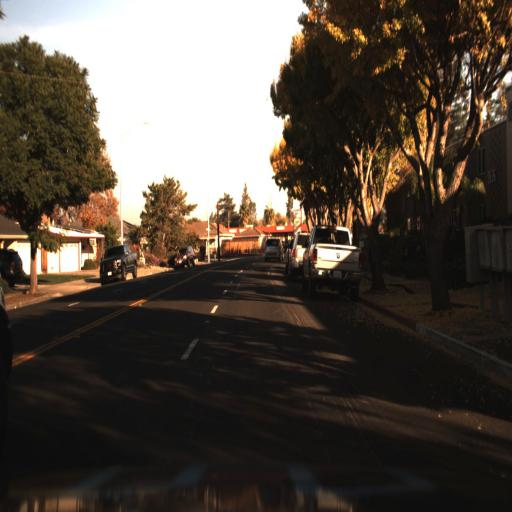car: (297, 221, 364, 301), (96, 240, 140, 284), (96, 241, 139, 280), (171, 243, 198, 271), (262, 234, 284, 264), (173, 246, 193, 269)
